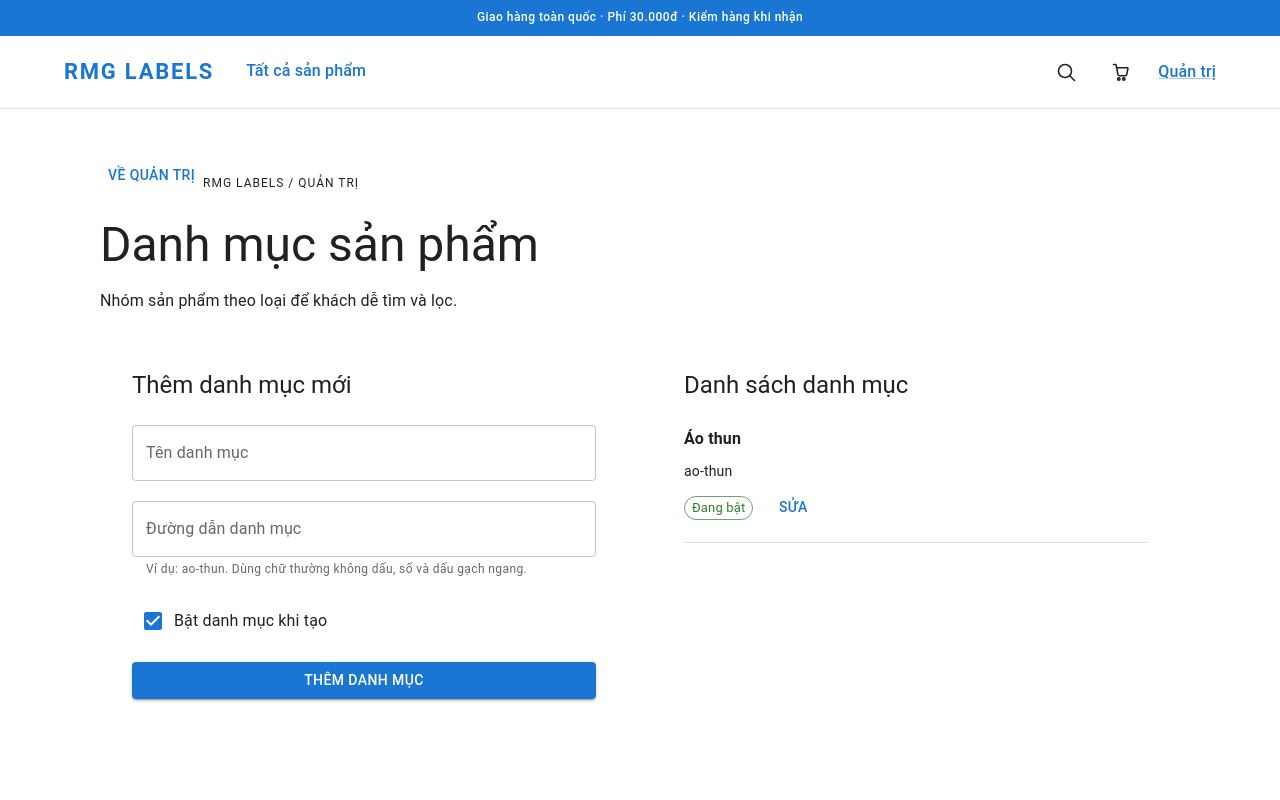
Test case: admin category editing › loads current fields, patches with the original version and refreshes the list
Click the button with aria-label "Sửa Áo thun" at (793, 508), box [761,490,825,526]
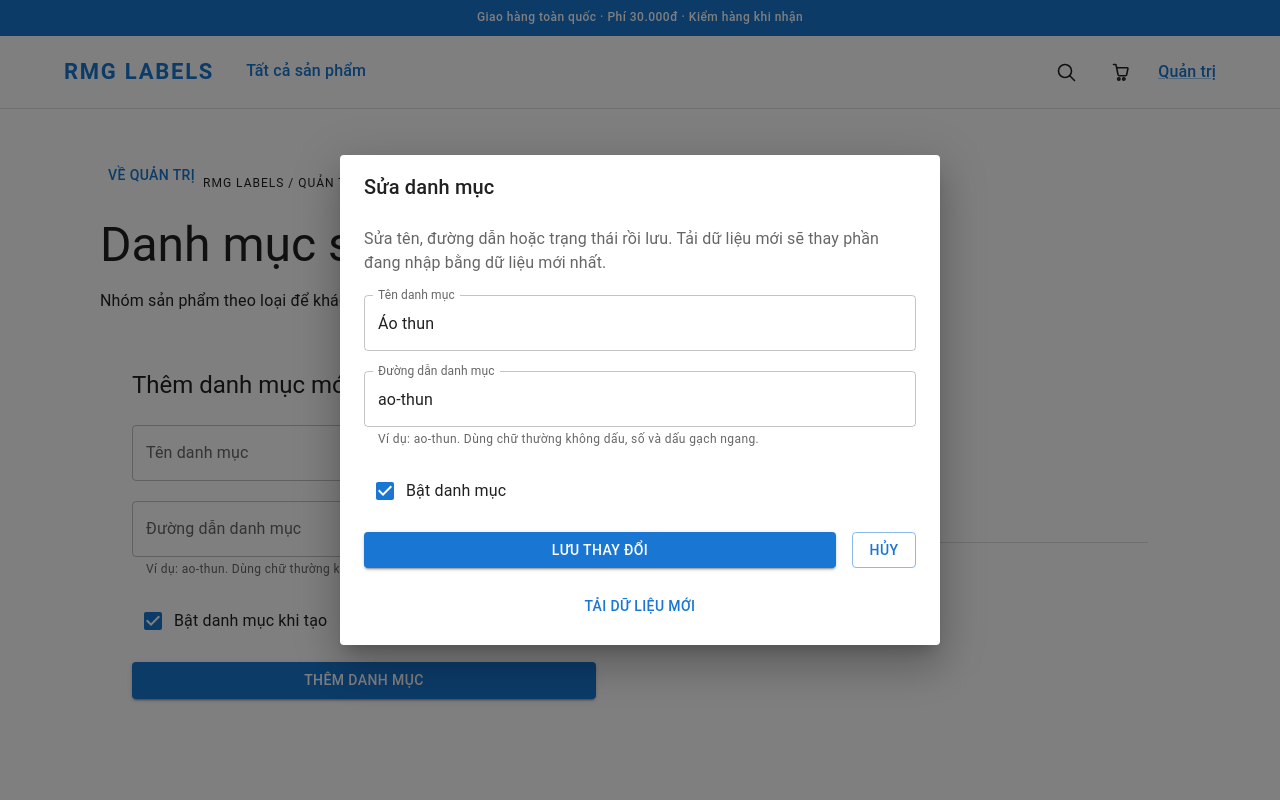
Result: the field labelled "Tên danh mục" holds "Áo thun"
Replace the text in the field labelled "Tên danh mục" with "Áo cotton" at (640, 323), box [364,295,916,351]
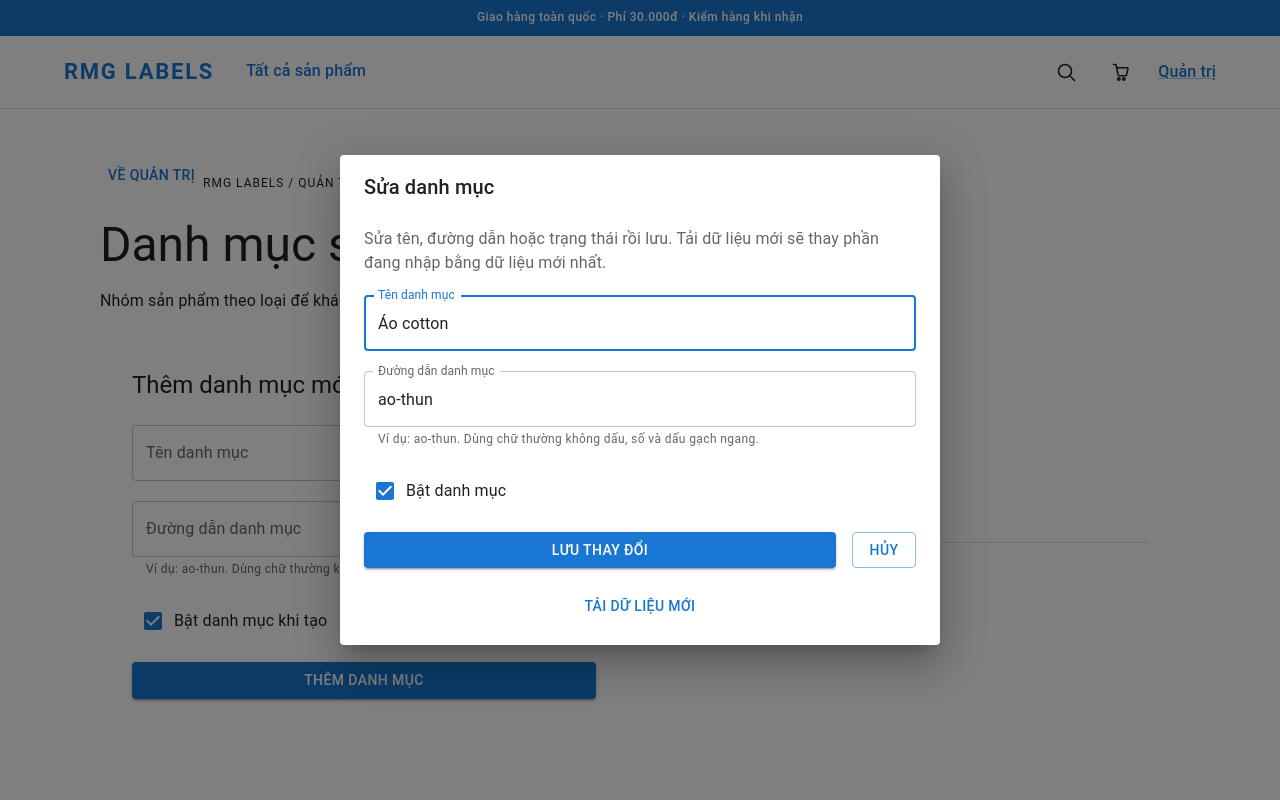
Replace the text in the field labelled "Đường dẫn danh mục" with "ao-cotton" at (640, 399), box [364,371,916,427]
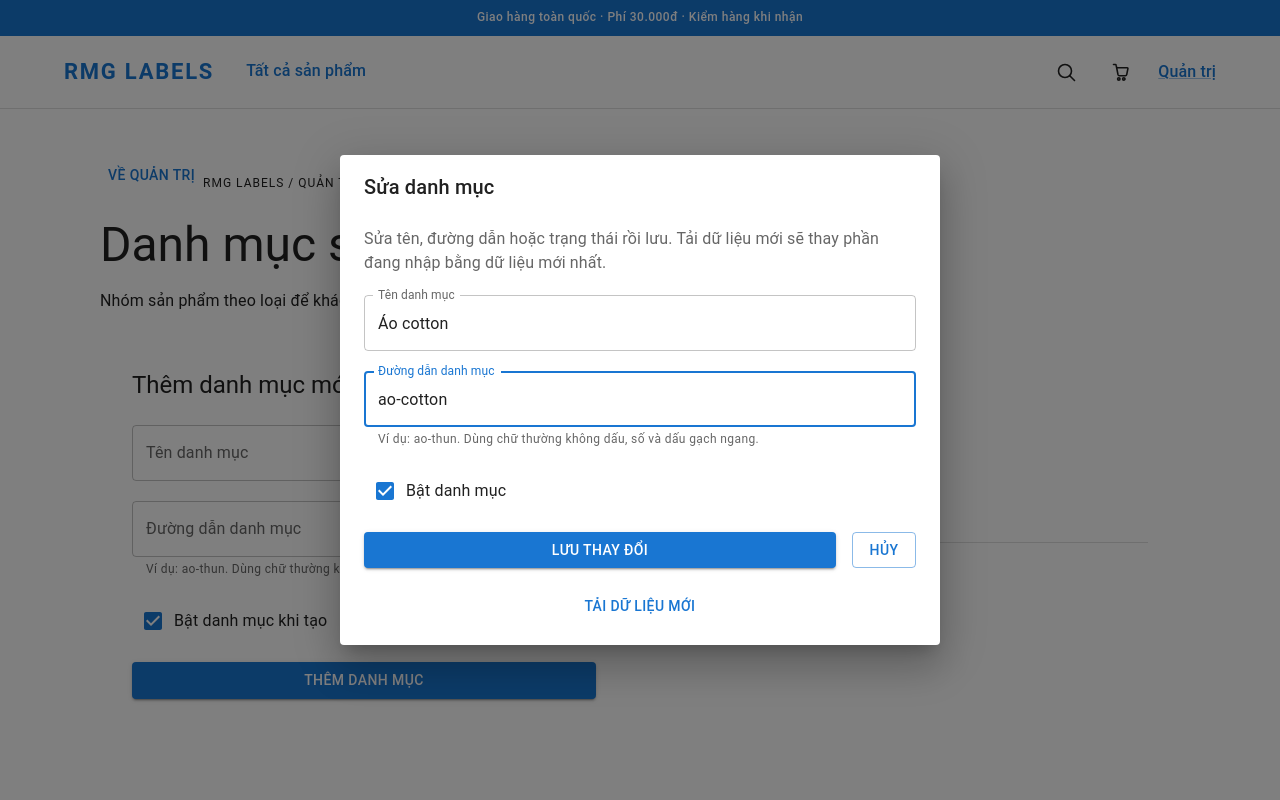
Click the checkbox labelled "Bật danh mục" at (440, 491), box [373,479,506,503]
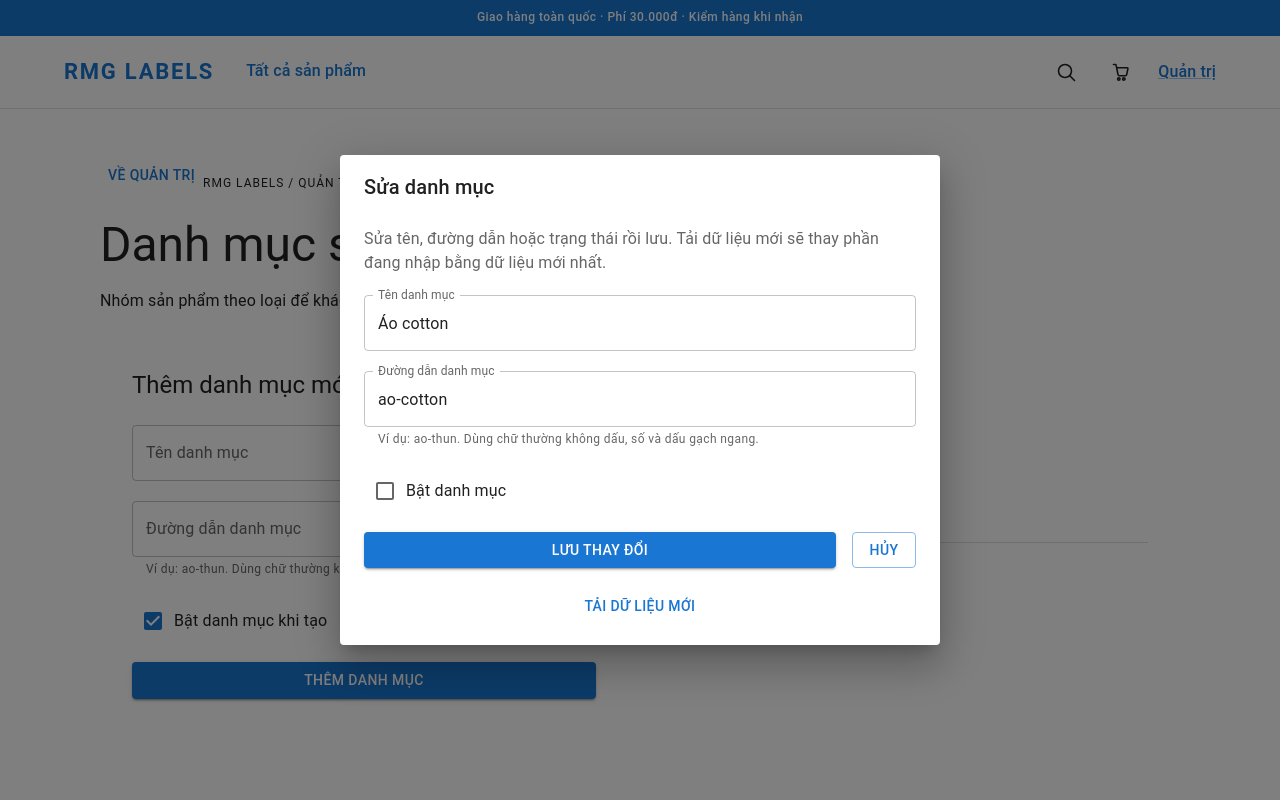
Click the button "Lưu thay đổi" at (600, 550), box [364,532,836,568]
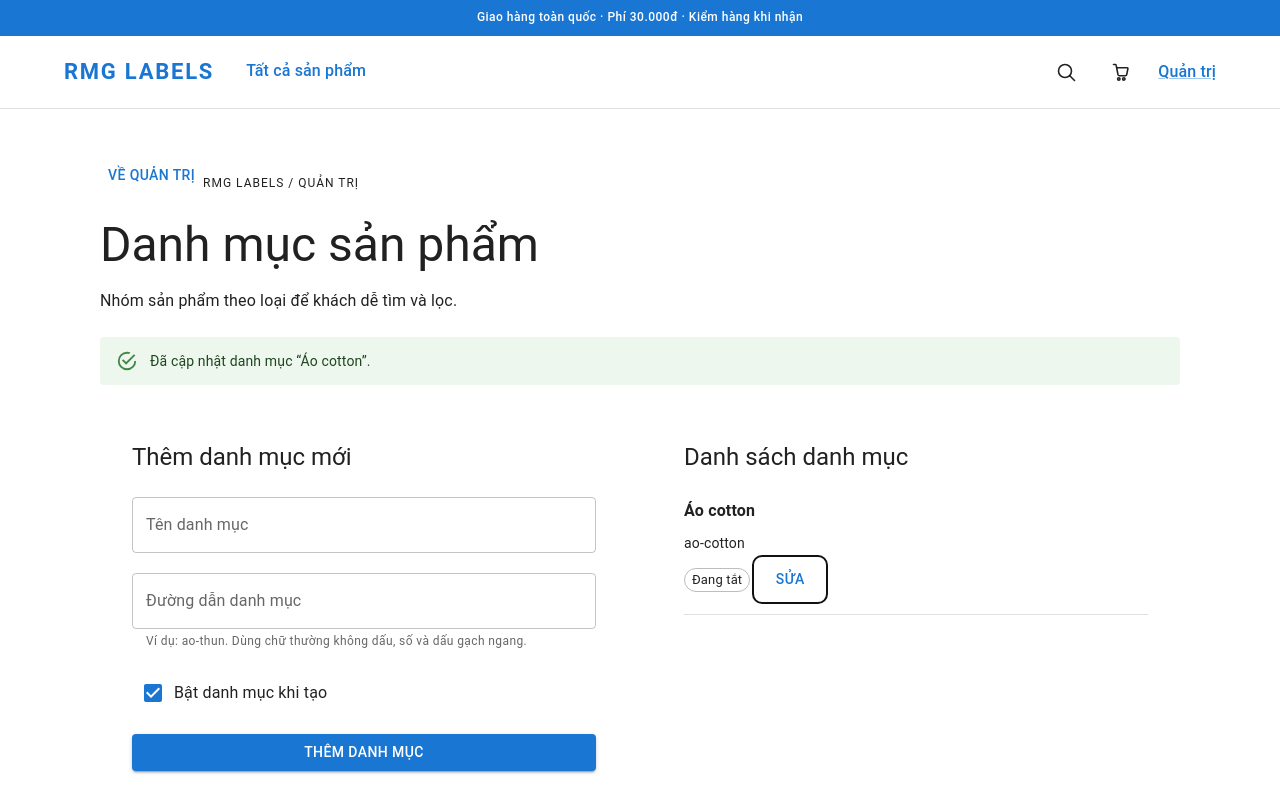
Result: the text "Đã cập nhật danh mục “Áo cotton”." is shown at [150,353,371,369]
Result: the heading "Áo cotton" is shown at [684,502,755,520]
Result: the text "Đang tắt" is shown at [692,572,742,587]
